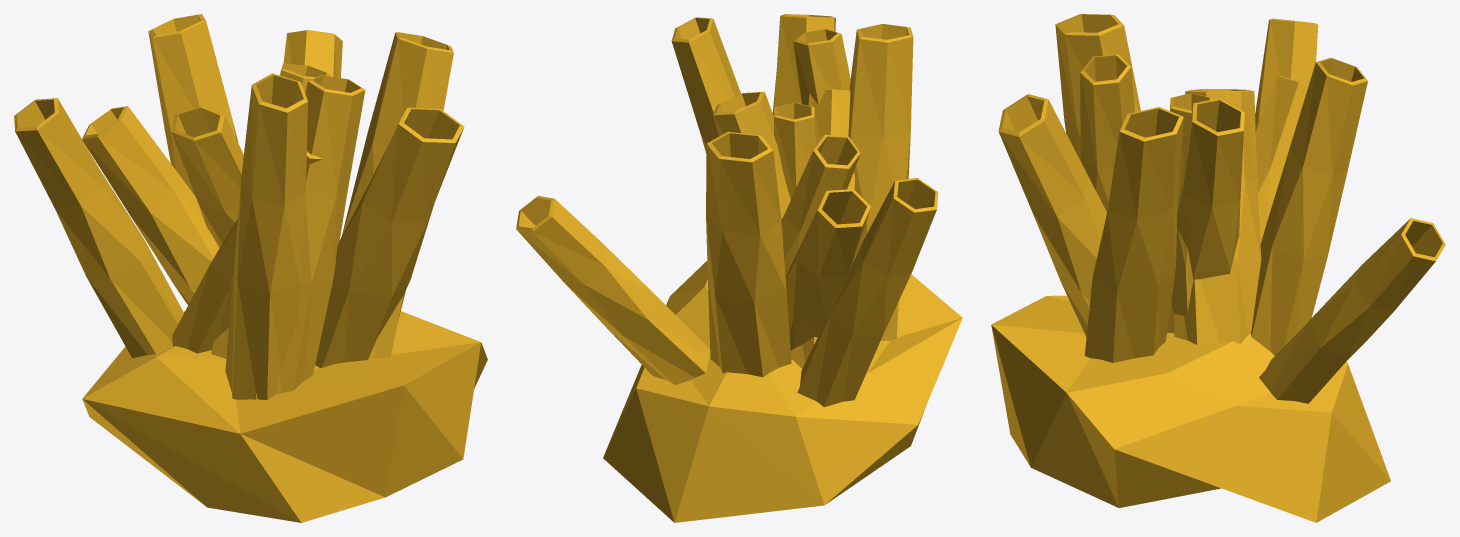
3 views of the same model, side by side, from view 1: azimuth 30°, elevation 25°; view 2: azimuth 150°, elevation 25°; view 3: azimuth 270°, elevation 25° (orthographic). The views are drawn at different scales.
Size of the model in its own units: 40.32 by 43.79 by 41.91.
